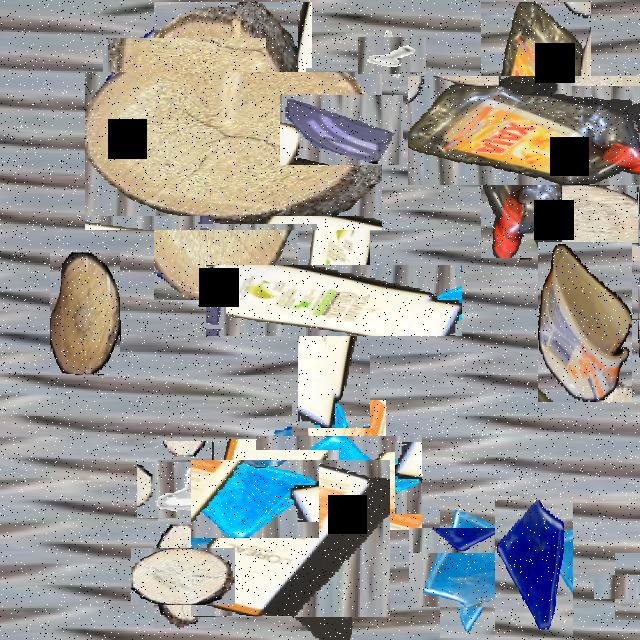glass: (274, 418, 404, 549), (121, 20, 249, 147), (424, 512, 536, 622), (495, 500, 573, 638), (292, 81, 390, 179), (245, 438, 328, 522)
metal: (147, 452, 225, 529), (211, 166, 269, 268), (366, 29, 418, 81), (604, 563, 640, 609)
plastic: (444, 38, 628, 222), (202, 449, 380, 628), (252, 218, 416, 382), (538, 242, 632, 402)
wood: (119, 37, 347, 265), (50, 252, 120, 374), (142, 536, 224, 616), (571, 174, 640, 252), (599, 280, 640, 359)
